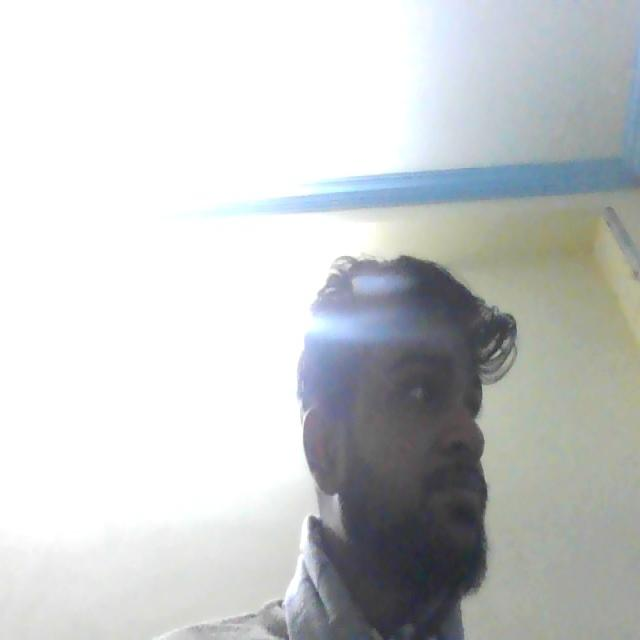real: (318, 219, 507, 576)
